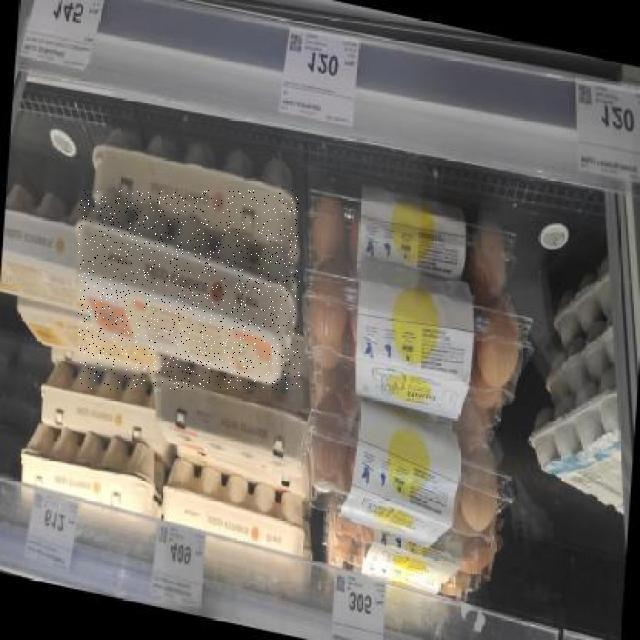Eggs: (78, 190, 300, 390)
